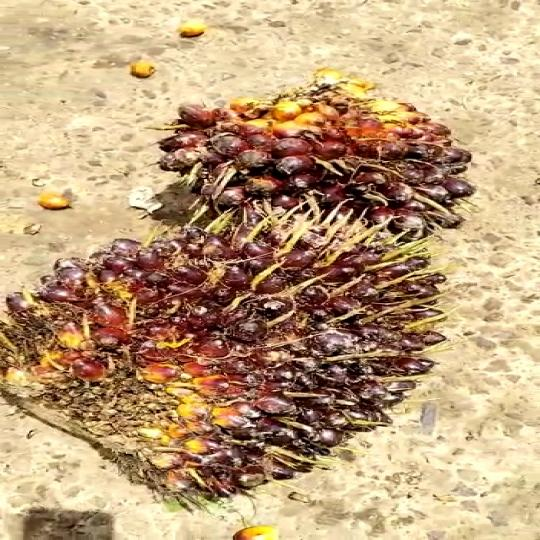kurang masak: (0, 196, 463, 498), (152, 71, 530, 275)
